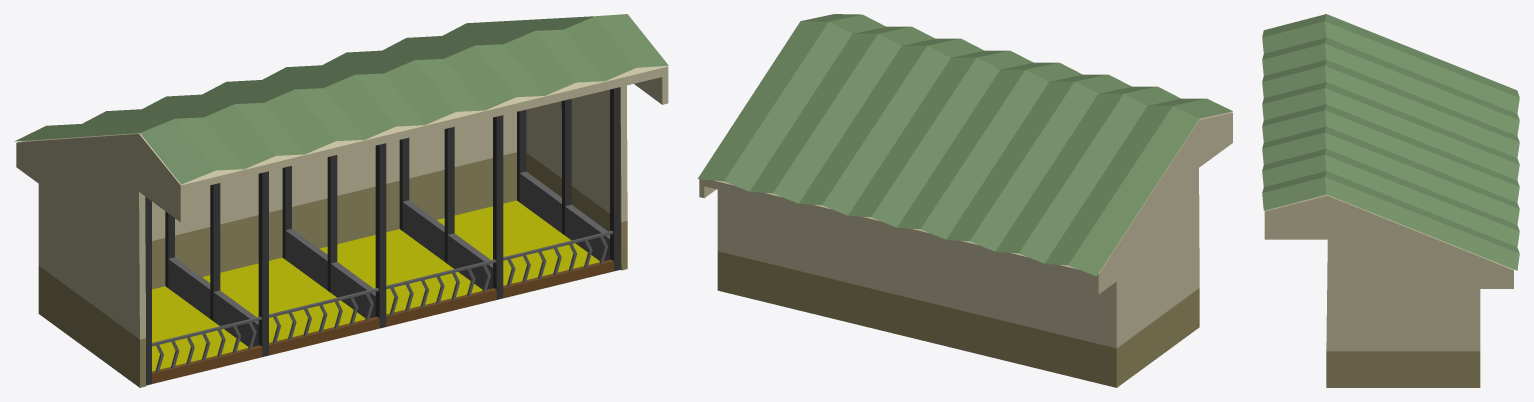
File: Shed.fbx
3 views of the same model, side by side, from view 1: azimuth 30°, elevation 25°; view 2: azimuth 150°, elevation 25°; view 3: azimuth 270°, elevation 25° (orthographic). The views are drawn at different scales.
Parts seen in each view (by area): view 1: Shed; view 2: Shed; view 3: Shed.
Boxes of the visible parts, x1,y1,x2,y2 form: Shed: (14,14,668,387); Shed: (697,14,1232,387); Shed: (1262,14,1519,387).
Size of the model in its own units: 15.8 by 8.1 by 9.53.
